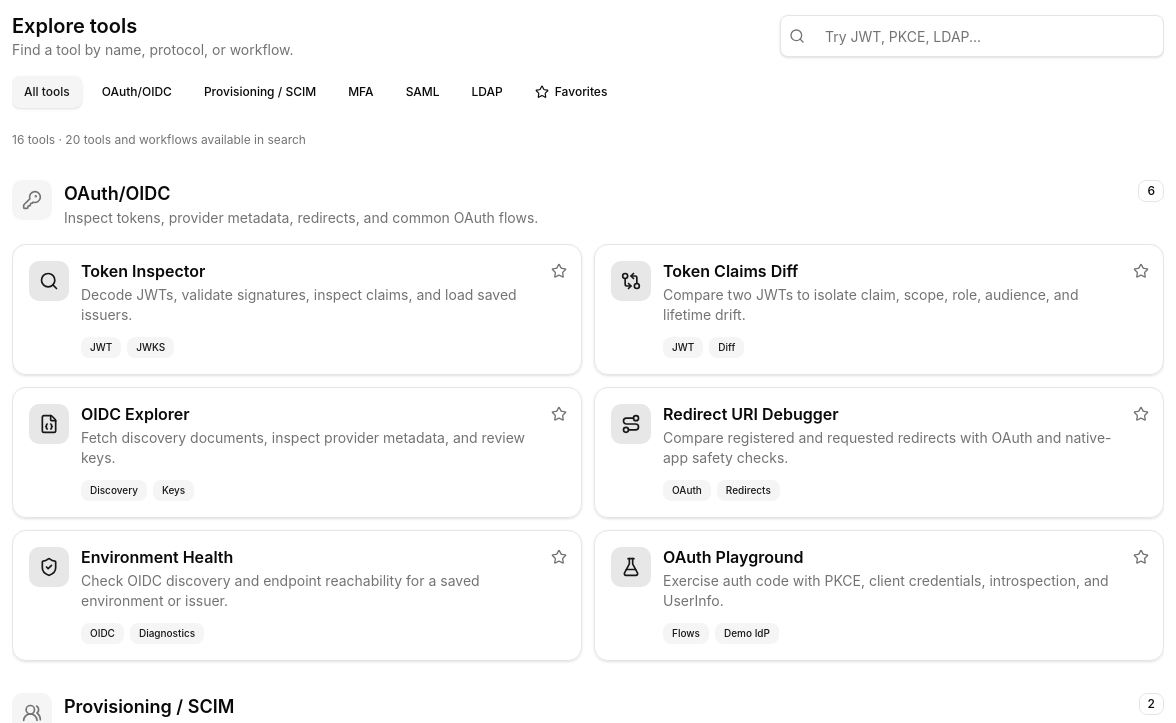
Test case: Tool catalog browser › stars a tool without navigating and includes saved workflow favorites
Step 1. Click the button named "Add Token Inspector to favorites" → (559, 271), box left=541, top=253, right=577, bottom=289
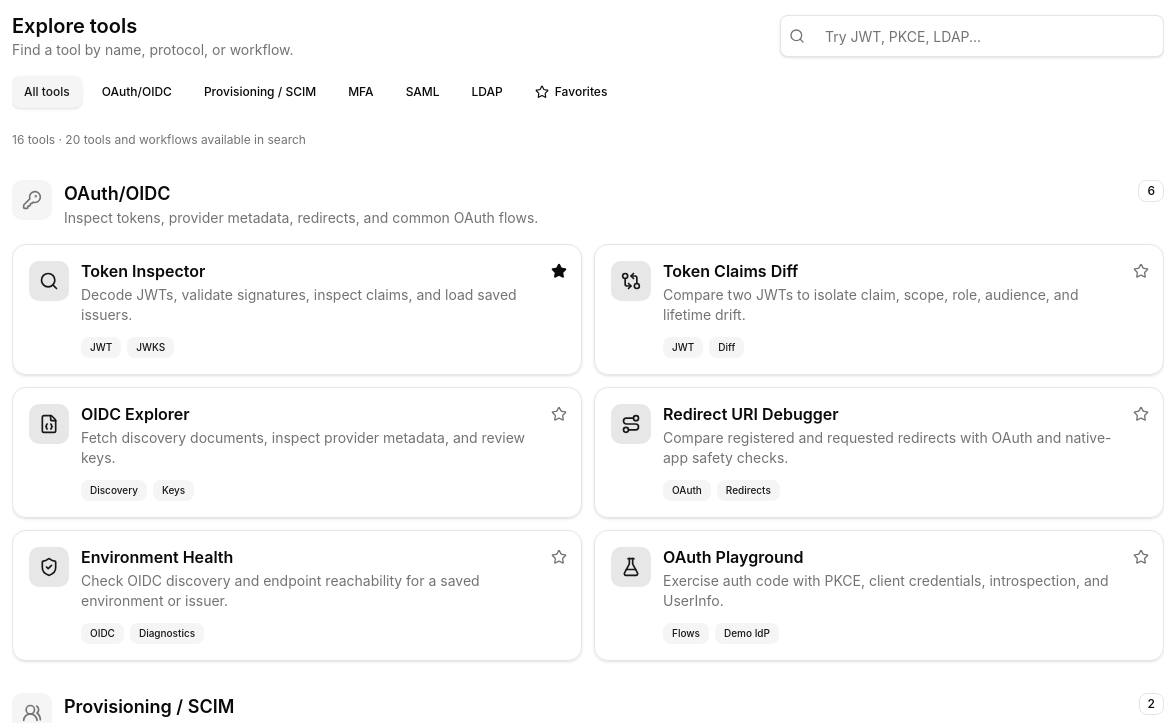
Step 2. Click the button "Favorites" → (571, 92), box left=523, top=76, right=619, bottom=108
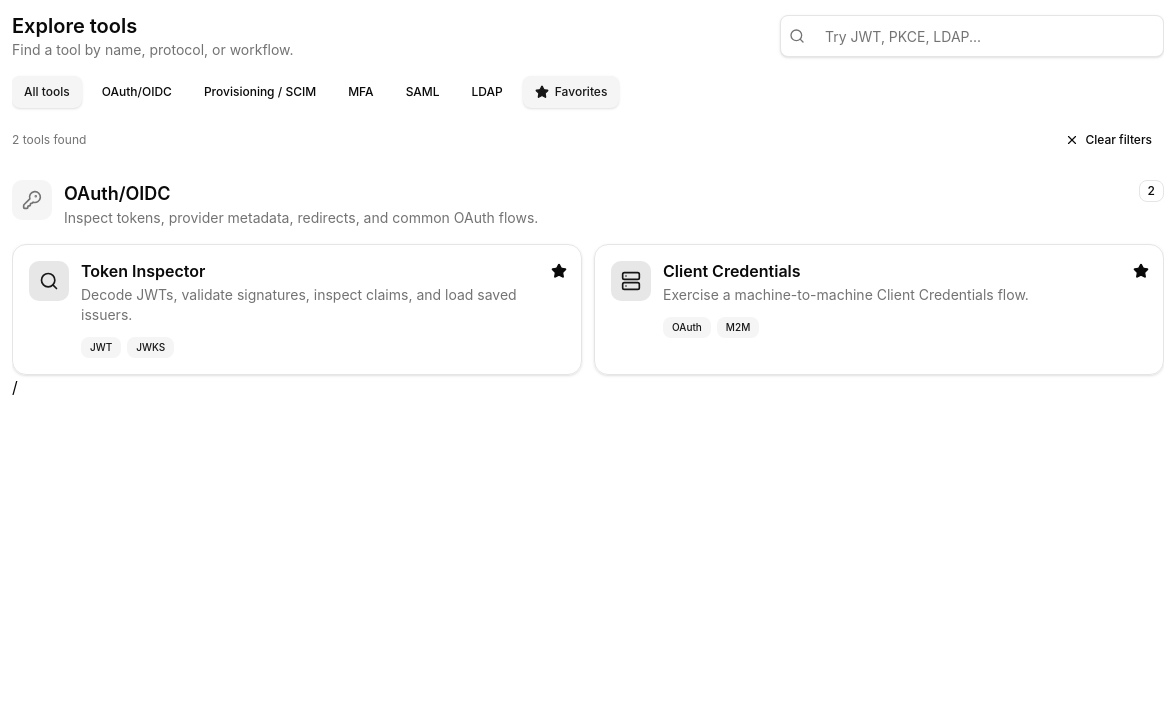
Check: the message reads "2 tools found", box left=12, top=132, right=86, bottom=148
Check: the link "Client Credentials" is shown, box left=611, top=261, right=1029, bottom=338
Check: the link with test id "home-card-oidc-explorer" is gone
Step 3. Click the button named "Remove Token Inspector from favorites" → (559, 271), box left=541, top=253, right=577, bottom=289
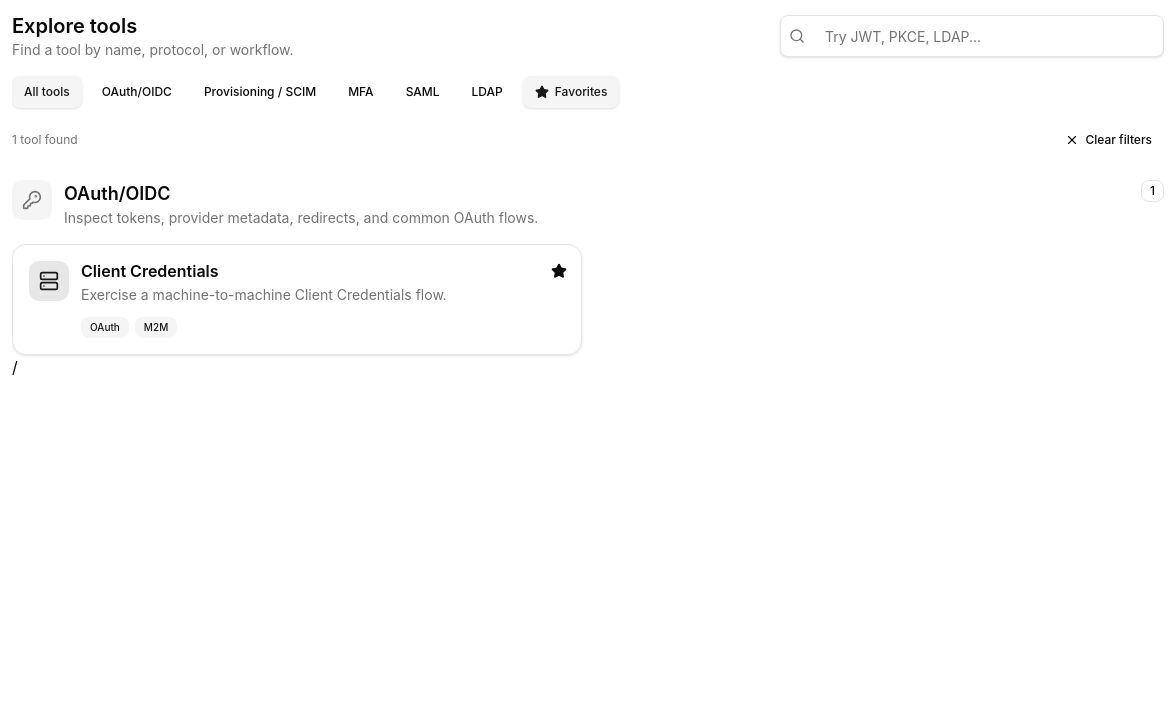
Check: the link with test id "home-card-token-inspector" is gone
Check: the message reads "1 tool found", box left=12, top=132, right=78, bottom=148
